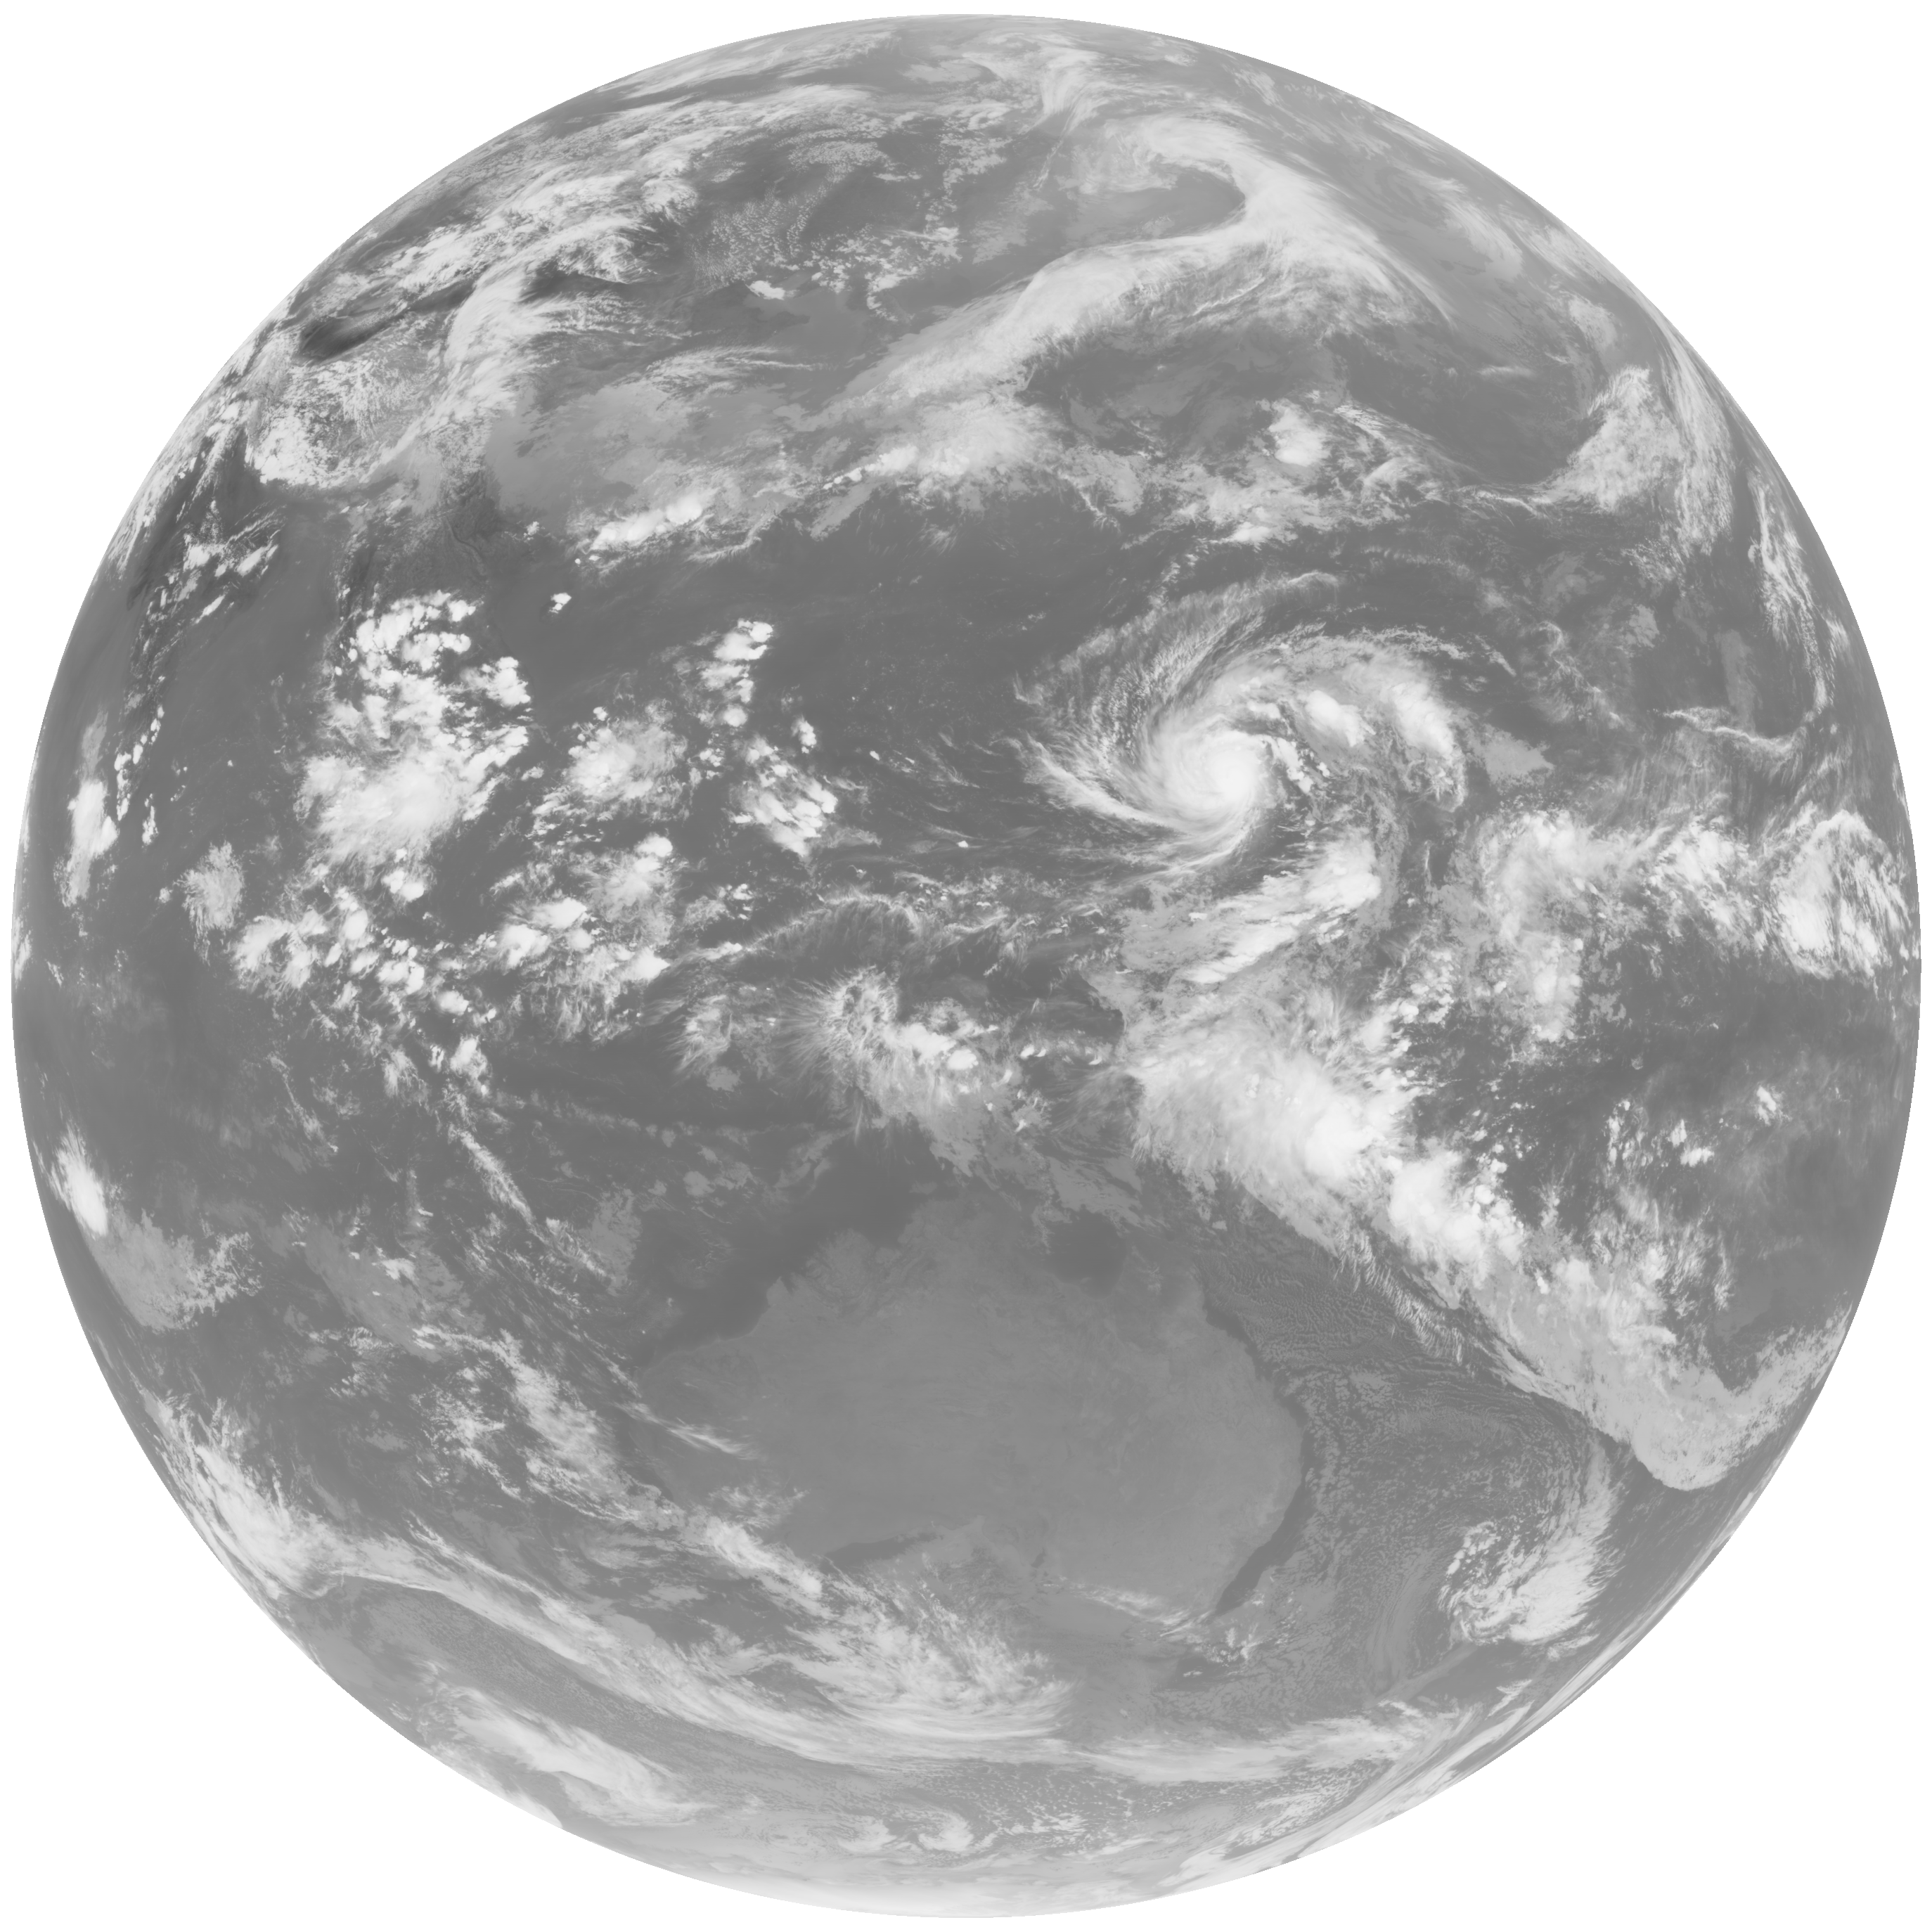typhoon: (993, 564, 1472, 952)
